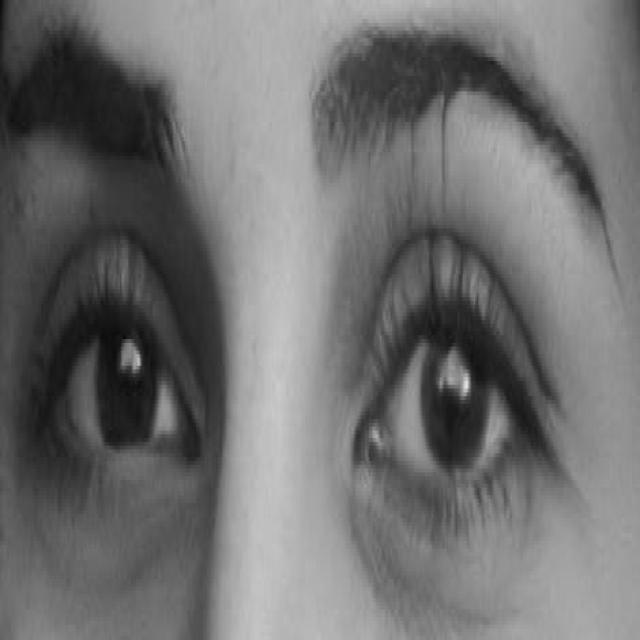real: (12, 160, 590, 570)
